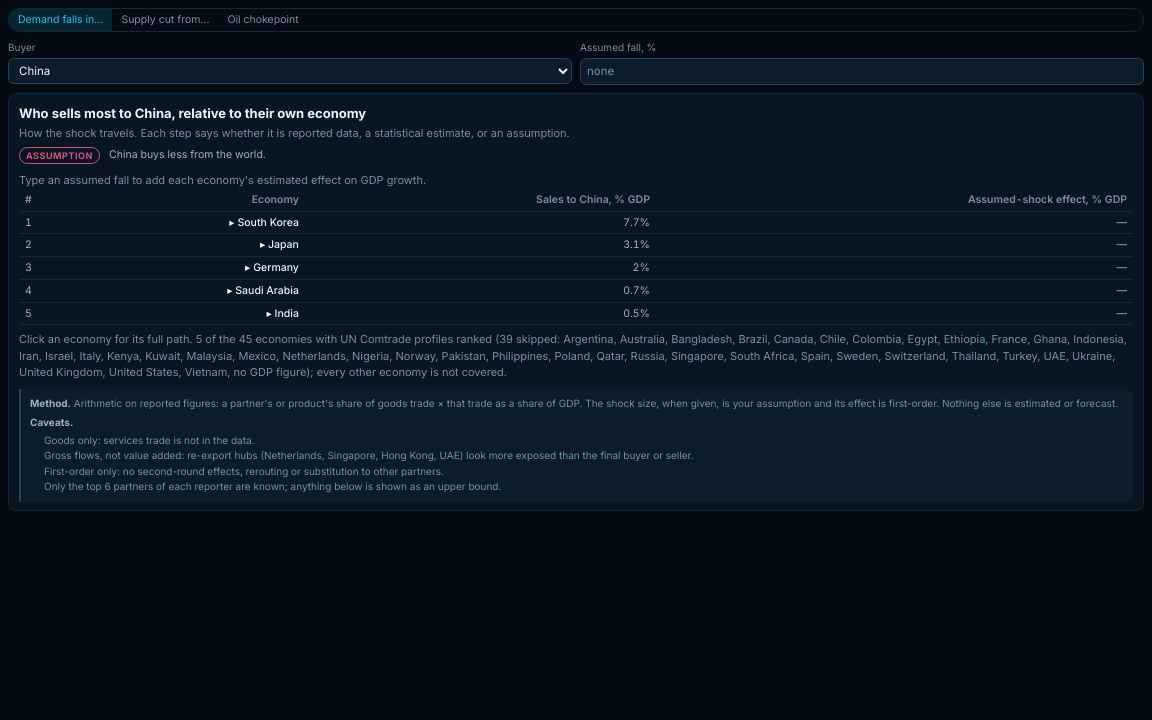
Test: ExposurePanel › switches to an oil chokepoint and shows importers and exporters on opposite sides
The width and height of the screenshot is (1152, 720).
Click the button "Oil chokepoint". click: (263, 20)
box: [218, 9, 308, 31]
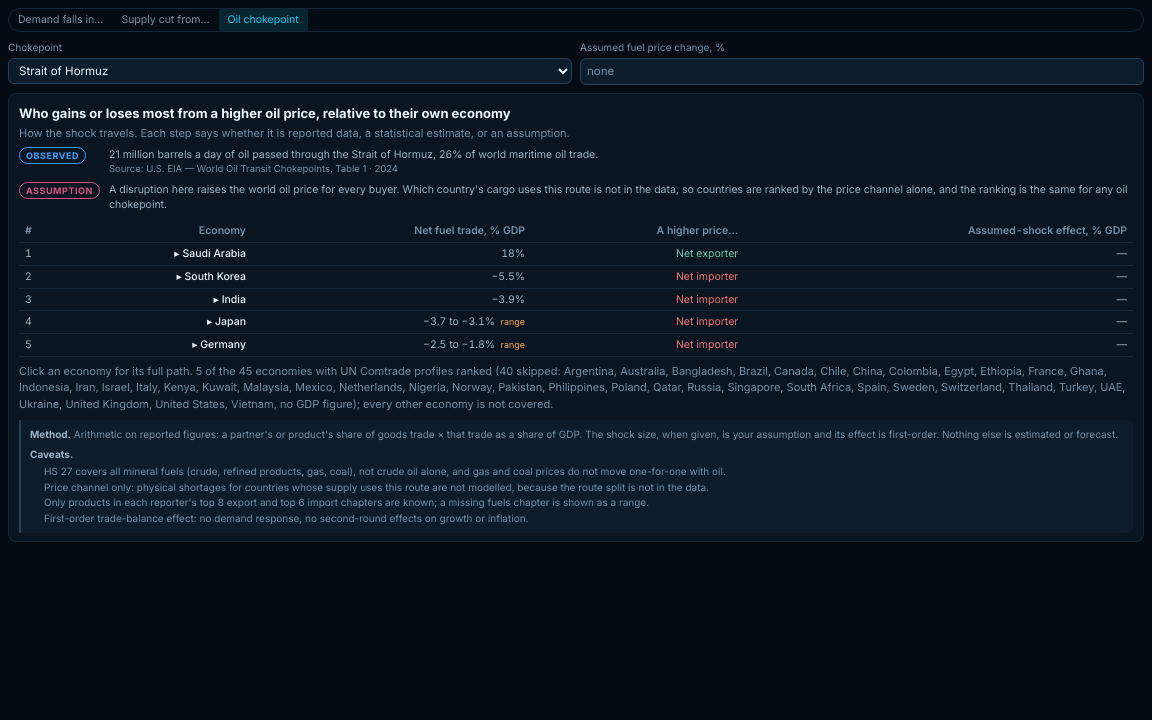
Check: the heading "higher oil price" is shown, box [19, 104, 570, 124]
Check: the text "same for any oil chokepoint" is shown, box [109, 183, 1128, 211]
Check: the text "Net importer" in the row of "South Korea" is shown, box [676, 270, 738, 283]
